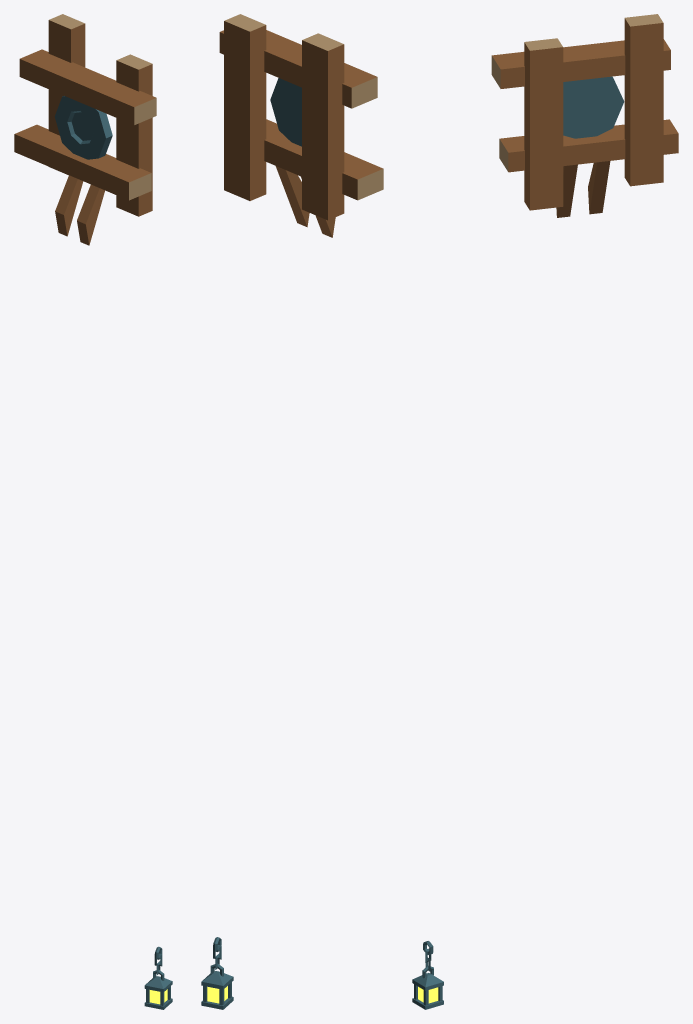
3 renders of one model, left to right at view 1: azimuth 30°, elevation 25°; view 2: azimuth 210°, elevation 25°; view 3: azimuth 270°, elevation 25°, orthographic. The views are drawn at different scales.
Visible parts, largest first — view 1: Box168_brown_0, Cylinder1512_metal_0, Box173_brown_0, Box168_brown2_0, Box15902_metal_0; view 2: Box168_brown_0, Box168_brown2_0, Cylinder1512_metal_0, Box173_brown_0, Box15902_metal_0; view 3: Box168_brown_0, Cylinder1512_metal_0, Box173_brown_0, Box168_brown2_0, Box15902_metal_0.
Part boxes in pixels (x1,y1,x2,y2): Box168_brown_0: (14,20,156,216); Cylinder1512_metal_0: (54,96,112,159); Box173_brown_0: (55,175,104,245); Box168_brown2_0: (49,14,156,200); Box15902_metal_0: (144,976,172,1009); Box168_brown_0: (219,21,383,220); Box168_brown2_0: (224,14,383,200); Cylinder1512_metal_0: (270,78,301,146); Box173_brown_0: (275,166,335,237); Box15902_metal_0: (201,971,233,1009); Box168_brown_0: (492,18,678,210); Cylinder1512_metal_0: (563,76,624,138); Box173_brown_0: (556,161,610,217); Box168_brown2_0: (491,14,663,171); Box15902_metal_0: (412,973,443,1009).
Size of the model in its own units: 163 by 1910 by 467.
